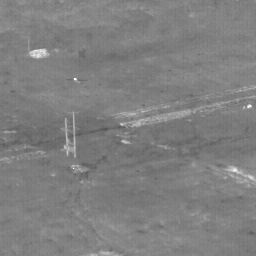aircraft: (74, 78, 76, 80)
